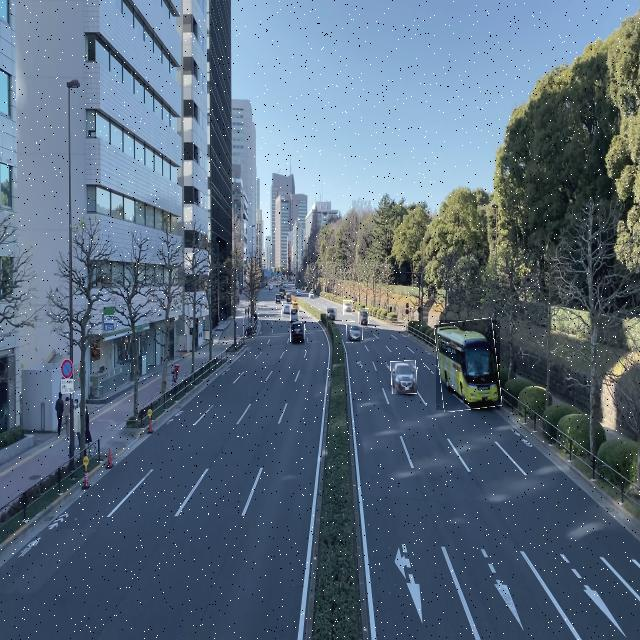Bus: (436, 320, 500, 410)
Car: (391, 361, 416, 394), (291, 320, 305, 345), (347, 322, 363, 343), (359, 308, 369, 327), (282, 302, 291, 318), (326, 307, 337, 320), (343, 300, 352, 315), (291, 308, 299, 322)
